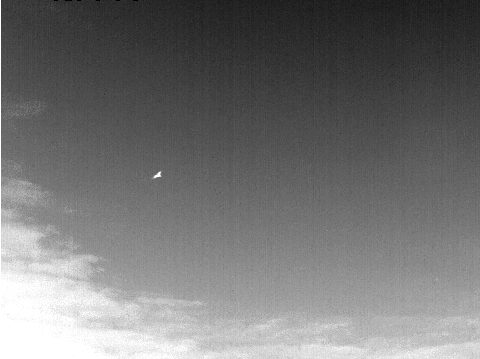dim target: (151, 170, 163, 180)
